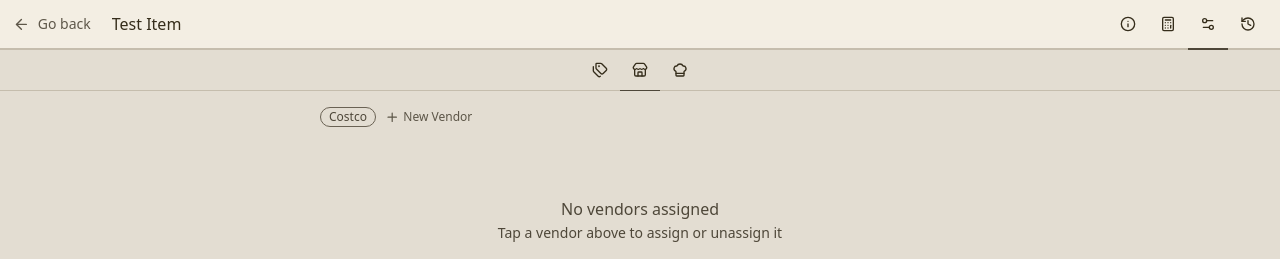
Test case: Vendors Tab › loading state › shows spinner on vendor badge while mutation is in flight
The image size is (1280, 259).
Click the button "Costco". click: point(348, 117)
box: [320,107,376,127]
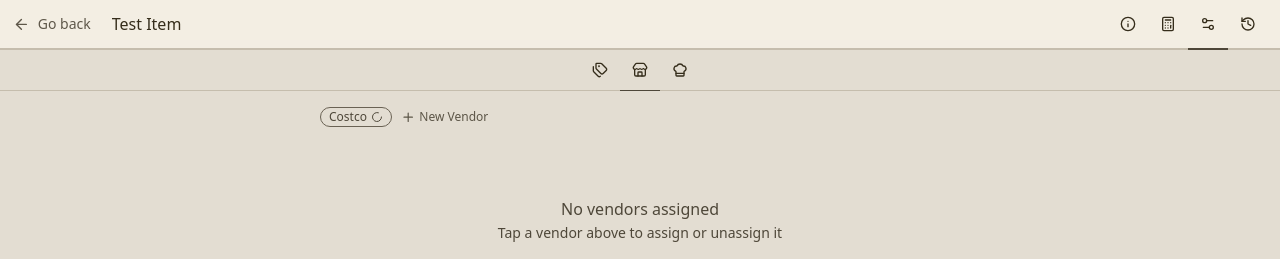
Check: the icon with class "animate-spin" is shown, box [371,111,383,123]
